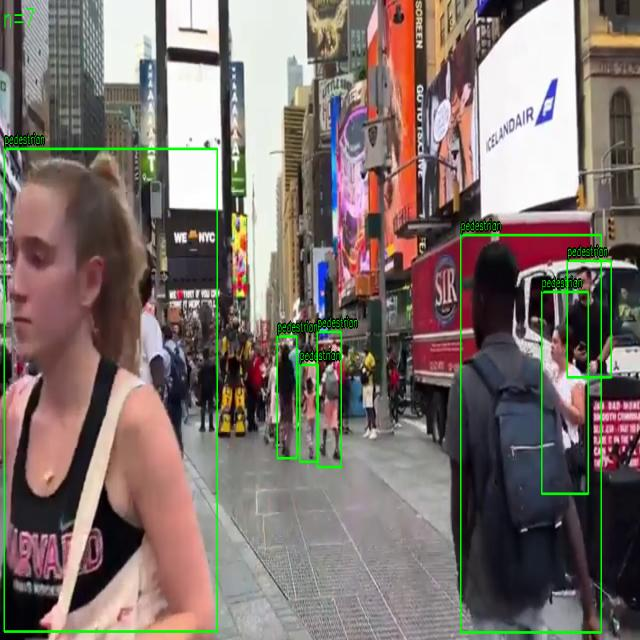with scooter: (4, 148, 218, 632), (461, 235, 602, 633), (542, 292, 588, 494), (567, 260, 611, 378), (317, 332, 341, 468), (277, 336, 297, 459), (300, 364, 318, 462)
